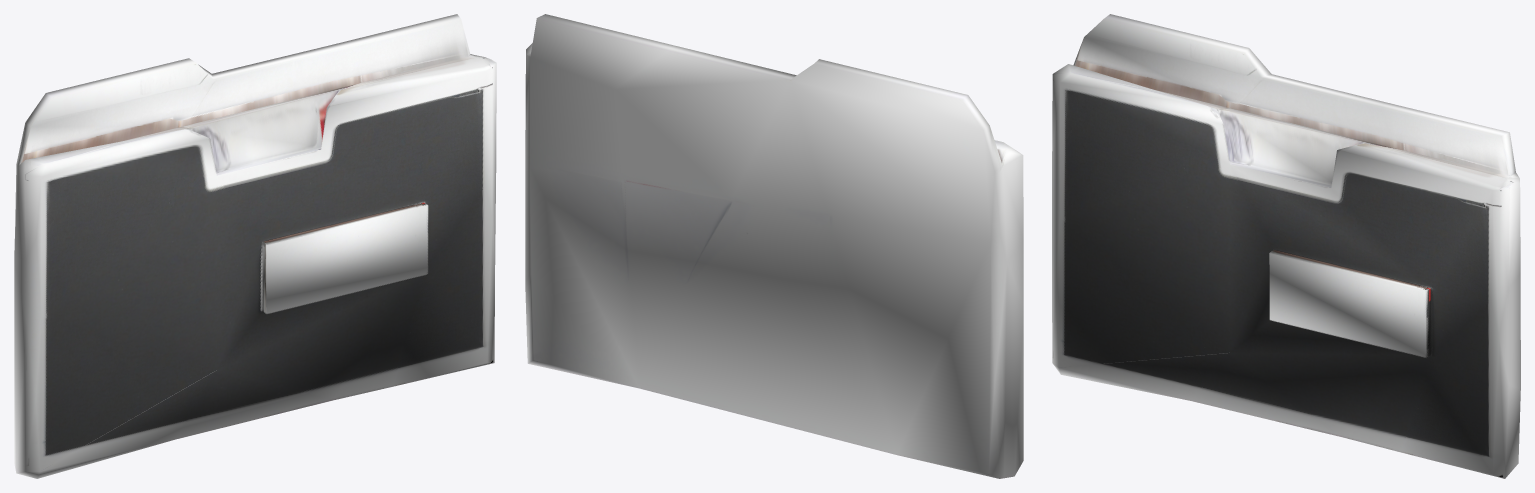
The model's file is intel_report-01a.glb.
3 renders of one model, left to right at view 1: azimuth 30°, elevation 25°; view 2: azimuth 150°, elevation 25°; view 3: azimuth 330°, elevation 25°, orthographic. The views are drawn at different scales.
Size of the model in its own units: 2 by 1.47 by 0.2124.
1 material, 1 textured.
